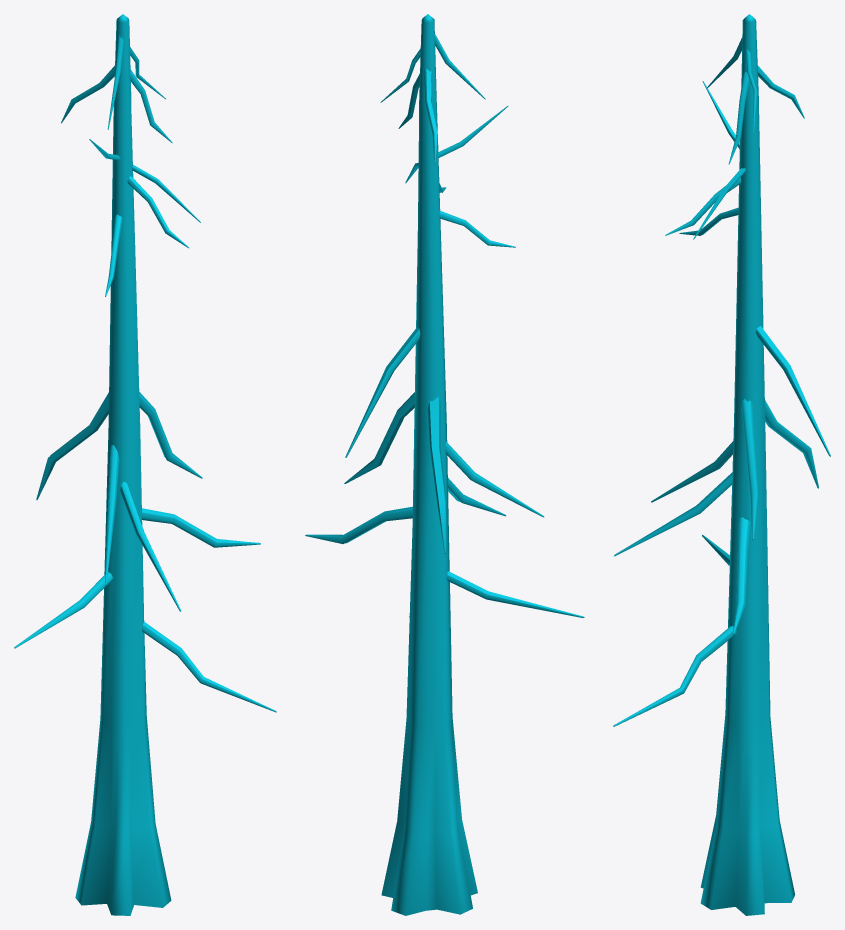
File: Deadtree_1_Terrain.fbx
3 renders of one model, left to right at view 1: azimuth 30°, elevation 25°; view 2: azimuth 150°, elevation 25°; view 3: azimuth 270°, elevation 25°, orthographic.
Visible parts, largest first — view 1: pCube75; view 2: pCube75; view 3: pCube75.
Part boxes in pixels (bbox=[...]): pCube75: bbox=[14, 14, 276, 915]; pCube75: bbox=[305, 14, 584, 915]; pCube75: bbox=[613, 14, 830, 915].
Size of the model in its own units: 1.26 by 4.04 by 0.905.
